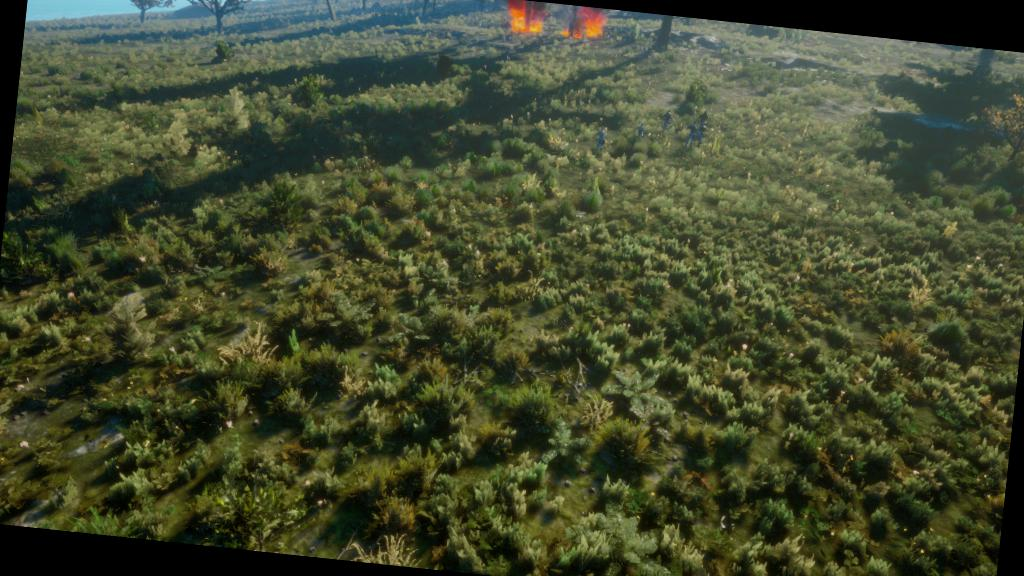Fire: (564, 5, 614, 43), (502, 0, 552, 38)
human: (627, 98, 681, 154), (680, 100, 728, 163), (586, 120, 614, 154)
